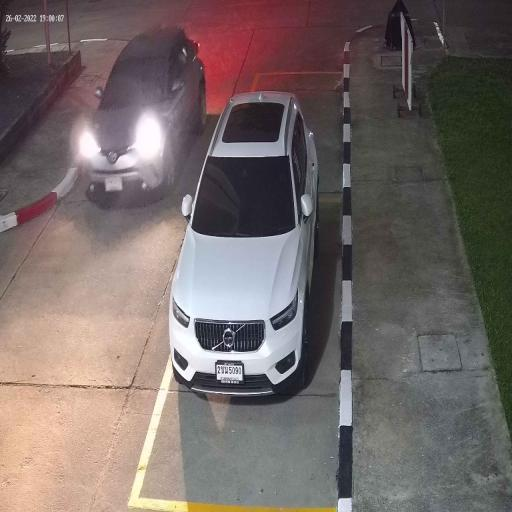car: (168, 87, 321, 402), (79, 28, 207, 206)
